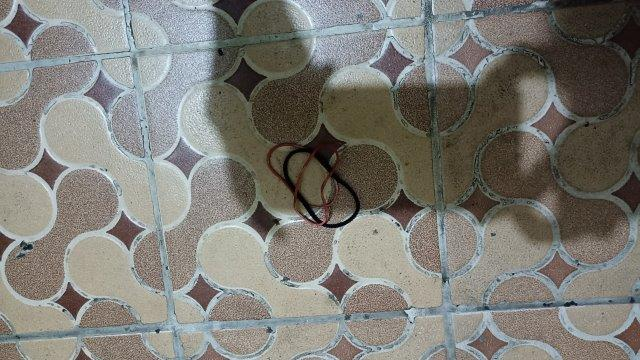karet: (266, 142, 359, 228)
